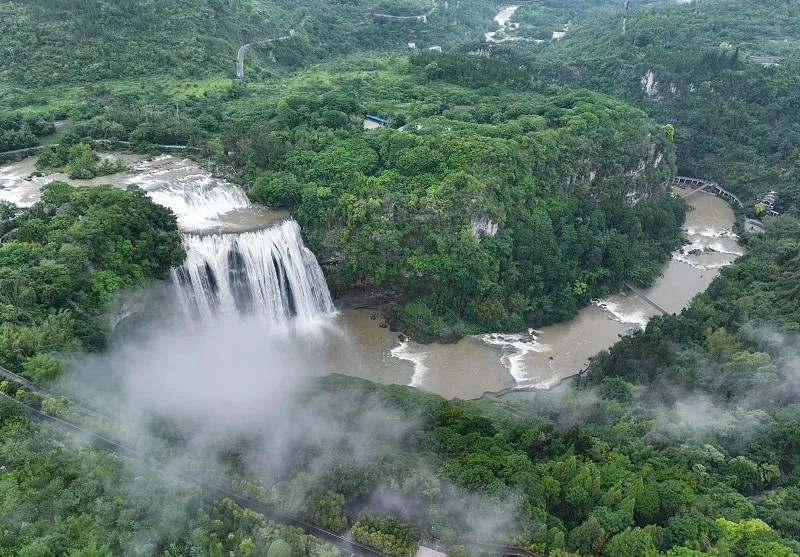Huangguoshu: (157, 185, 339, 353)
